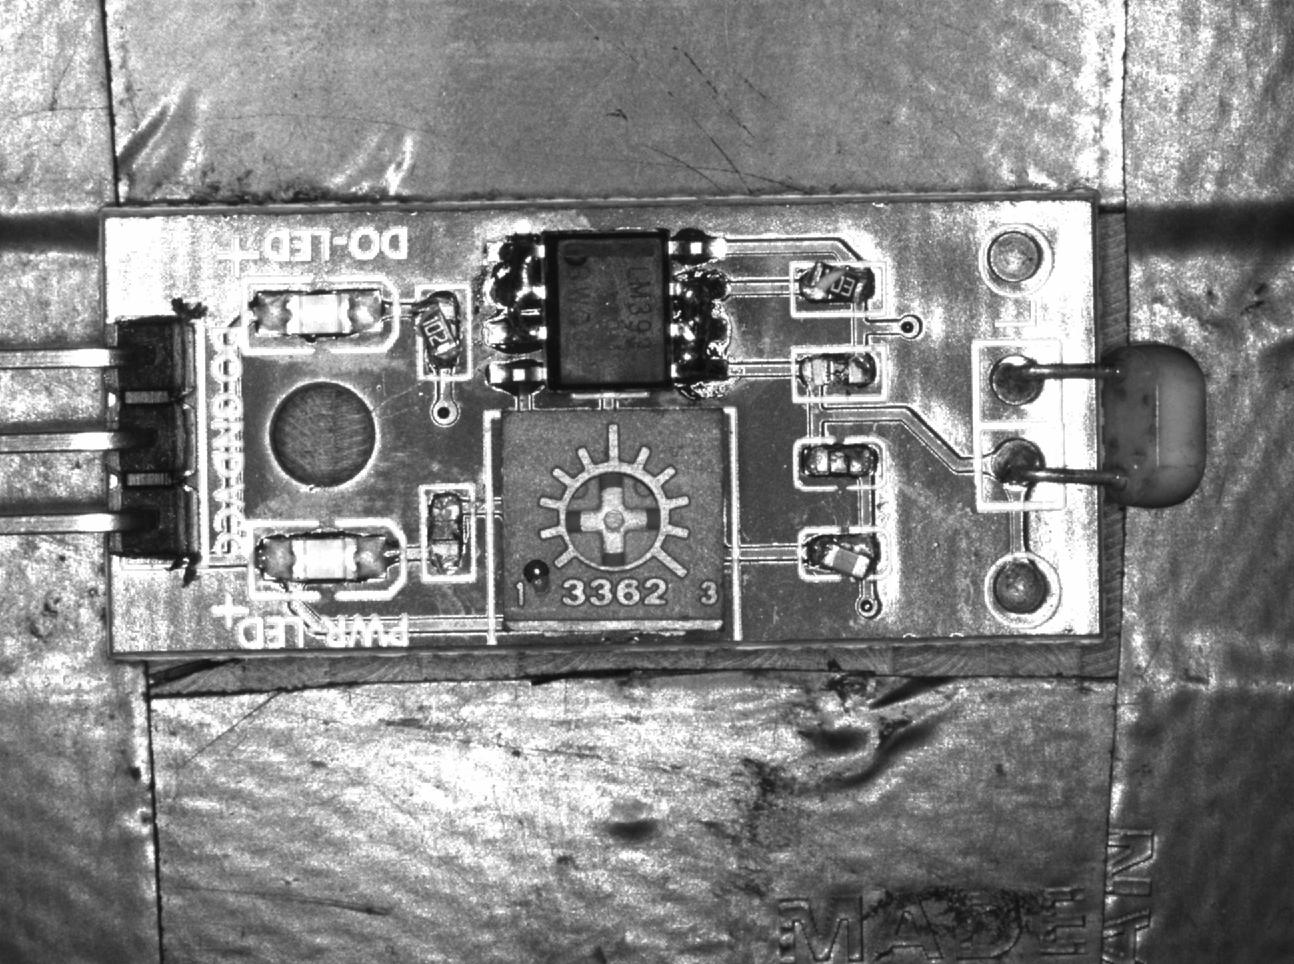bridge: (484, 236, 548, 353), (671, 273, 733, 385)
lifted: (414, 283, 472, 382), (791, 262, 885, 314), (800, 527, 886, 580)
miss: (420, 484, 476, 580), (790, 349, 888, 397), (795, 441, 883, 486)
